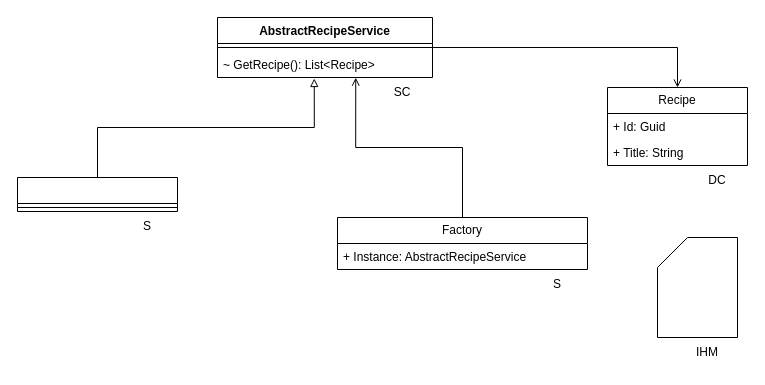
This 765x385 diagram has some shape labels left out. Each missing label, with the centre of its shape:
"CONFIG" goes at point (697, 287).
"ObjectRecipeService" goes at point (97, 194).
